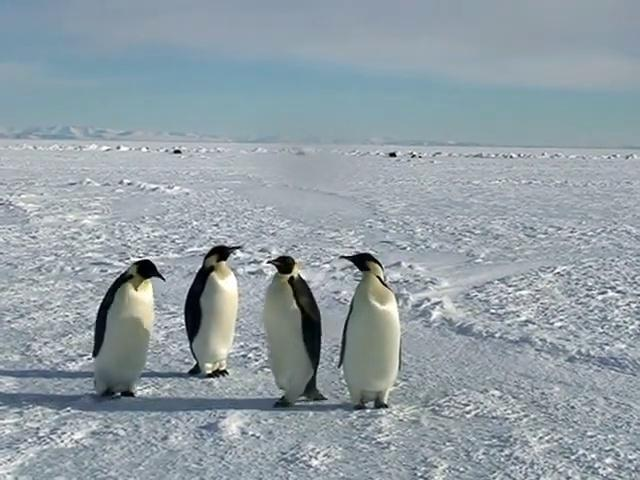animal: (340, 254, 402, 409)
